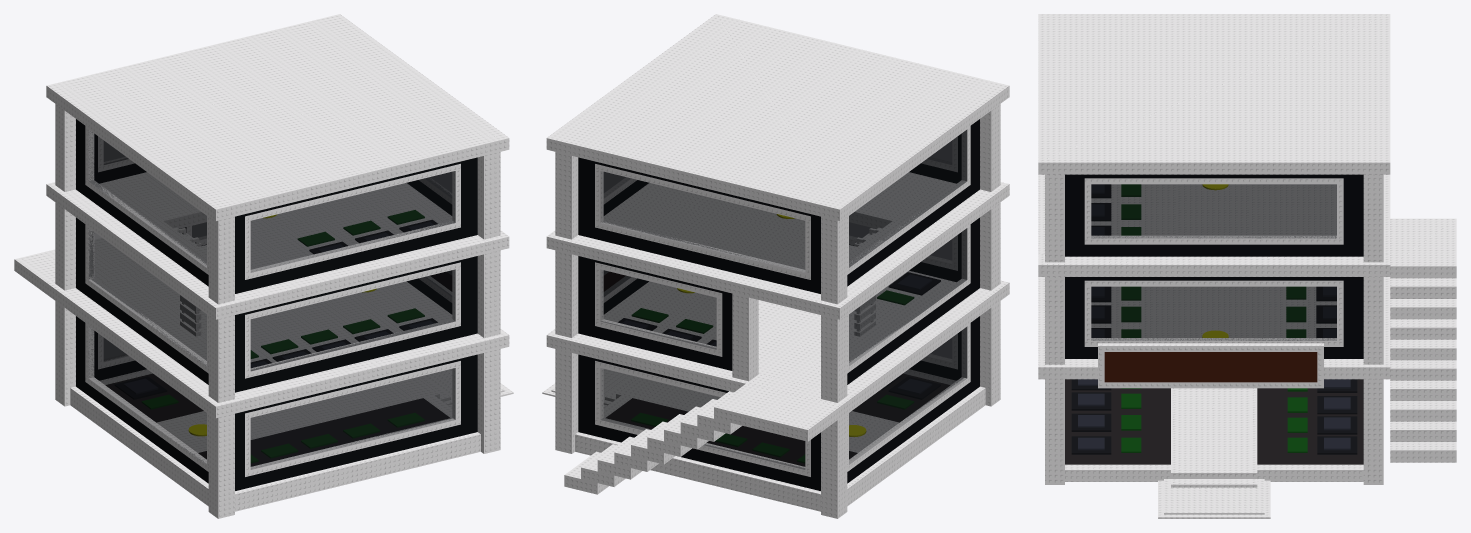
The picture shows the model from 3 angles, left to right: view 1: azimuth 30°, elevation 25°; view 2: azimuth 150°, elevation 25°; view 3: azimuth 270°, elevation 25°; orthographic projection. The views are drawn at different scales.
Visible parts, largest first — view 1: StructureBaseHome15, StructureBaseHome112, StructureBaseHome122, StructureBaseHome101, StructureBaseHome22, StructureBaseHome3, StructureBaseHome45, StructureBaseHome39, StructureBaseHome63, StructureBaseHome17, StructureBaseHome25, StructureBaseHome102 (+47 smaller); view 2: StructureBaseHome15, StructureBaseHome93, StructureBaseHome22, StructureBaseHome23, StructureBaseHome133, StructureBaseHome63, StructureBaseHome45, StructureBaseHome39, StructureBaseHome136, StructureBaseHome14, StructureBaseHome20, StructureBaseHome5 (+55 smaller); view 3: StructureBaseHome15, StructureBaseHome72, StructureBaseHome54, StructureBaseHome22, StructureBaseHome16, StructureBaseHome31, Plotsign1, Part2, Part1, StructureBaseHome23, StructureBaseHome5, StructureBaseHome74 (+42 smaller).
Boxes of the visible parts, x1,y1,x2,y2 form: StructureBaseHome15: (46, 14, 509, 220); StructureBaseHome112: (250, 269, 455, 371); StructureBaseHome122: (250, 171, 455, 272); StructureBaseHome101: (250, 368, 455, 469); StructureBaseHome22: (100, 271, 451, 362); StructureBaseHome3: (203, 329, 509, 418); StructureBaseHome45: (88, 228, 206, 366); StructureBaseHome39: (88, 327, 206, 464); StructureBaseHome63: (88, 130, 206, 267); StructureBaseHome17: (203, 235, 487, 319); StructureBaseHome25: (189, 193, 451, 269); StructureBaseHome102: (235, 432, 480, 511); StructureBaseHome15: (546, 14, 1009, 220); StructureBaseHome93: (600, 171, 805, 272); StructureBaseHome22: (604, 271, 955, 389); StructureBaseHome23: (604, 193, 866, 269); StructureBaseHome133: (600, 368, 805, 469); StructureBaseHome63: (849, 130, 967, 267); StructureBaseHome45: (849, 228, 967, 365); StructureBaseHome39: (849, 327, 967, 464); StructureBaseHome136: (600, 269, 716, 349); StructureBaseHome14: (568, 235, 852, 319); StructureBaseHome20: (563, 333, 852, 417); StructureBaseHome5: (714, 384, 839, 441); StructureBaseHome15: (1038, 14, 1390, 174); StructureBaseHome72: (1091, 184, 1336, 238); StructureBaseHome54: (1091, 286, 1336, 340); StructureBaseHome22: (1091, 287, 1336, 337); StructureBaseHome16: (1038, 254, 1390, 276); StructureBaseHome31: (1177, 388, 1250, 478); Plotsign1: (1104, 352, 1317, 382); Part2: (1065, 379, 1170, 464); Part1: (1257, 379, 1363, 464); StructureBaseHome23: (1251, 184, 1336, 235); StructureBaseHome5: (1390, 218, 1456, 278); StructureBaseHome74: (1065, 244, 1363, 256).
Bounding box in the file's own units: 64.13 × 54 × 63.
Materials: 19 (10 with a texture image).
